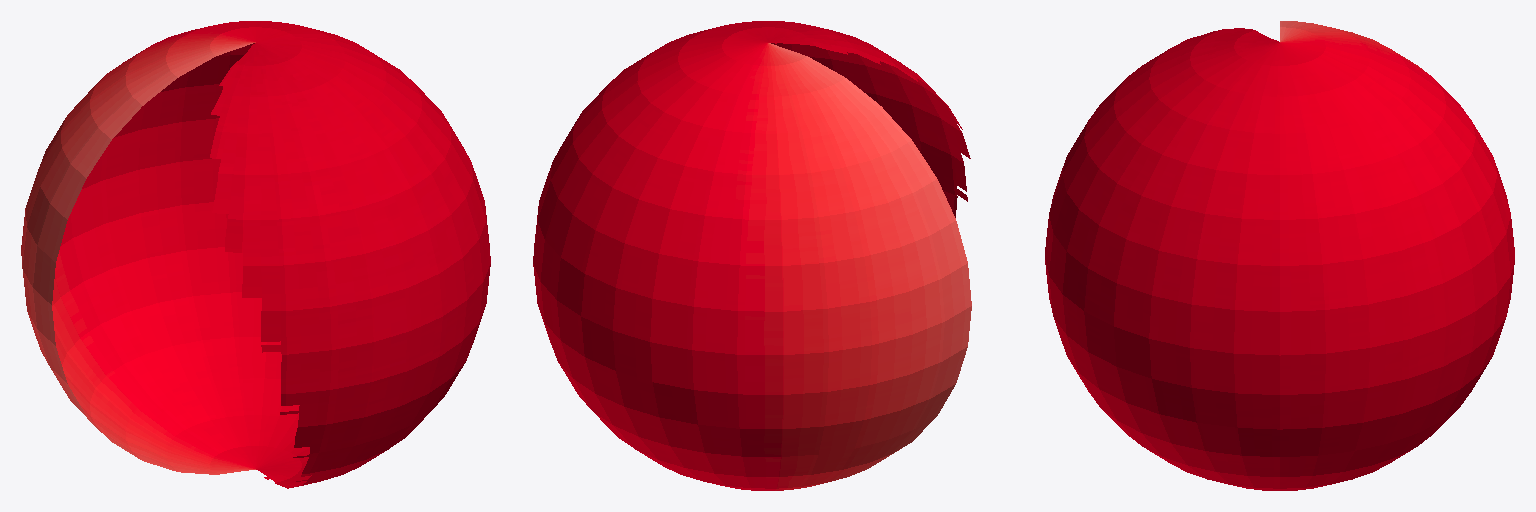
3 views of the same model, side by side, from view 1: azimuth 30°, elevation 25°; view 2: azimuth 150°, elevation 25°; view 3: azimuth 270°, elevation 25° (orthographic).
Visible parts, largest first — view 1: Sphere; view 2: Sphere; view 3: Sphere.
Part boxes in pixels (x1,y1,x2,y2): Sphere: (21, 21, 490, 488); Sphere: (533, 21, 971, 490); Sphere: (1045, 21, 1514, 490).
Size of the model in its own units: 0.2 by 0.2 by 0.2.
Materials: 1 (1 with a texture image).